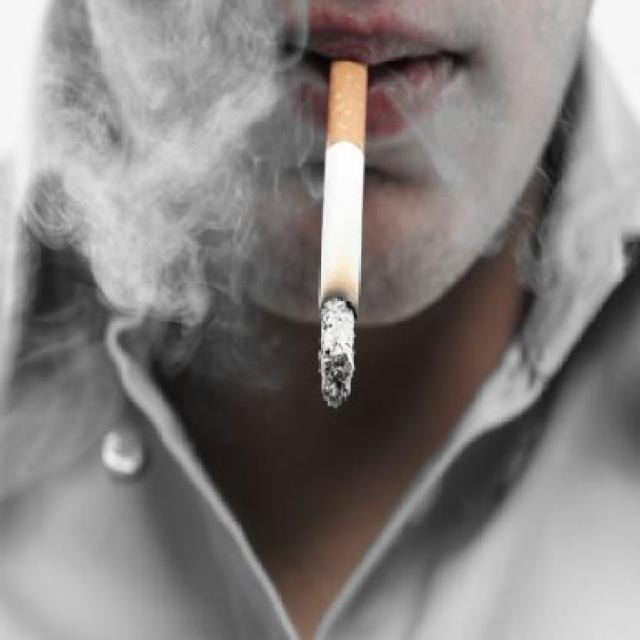smoke: (315, 57, 374, 415)
